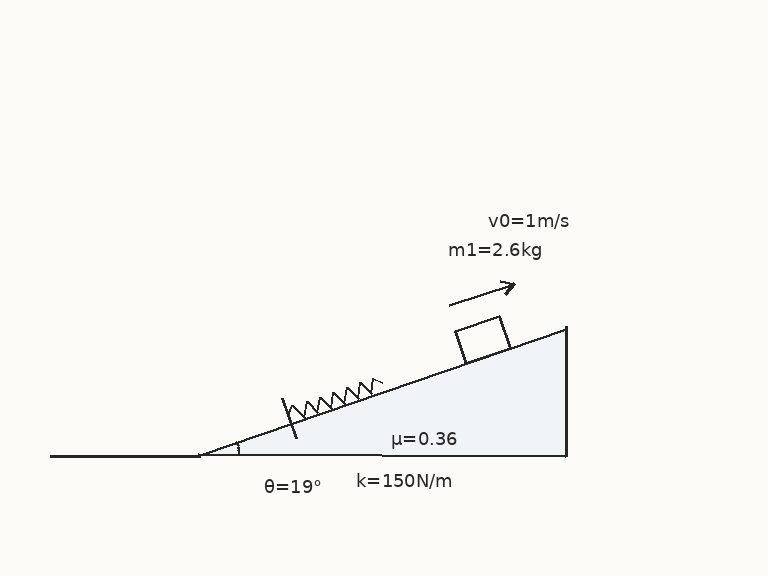block: (453, 314, 512, 365)
ramp: (197, 327, 568, 457)
spring: (286, 376, 385, 419)
